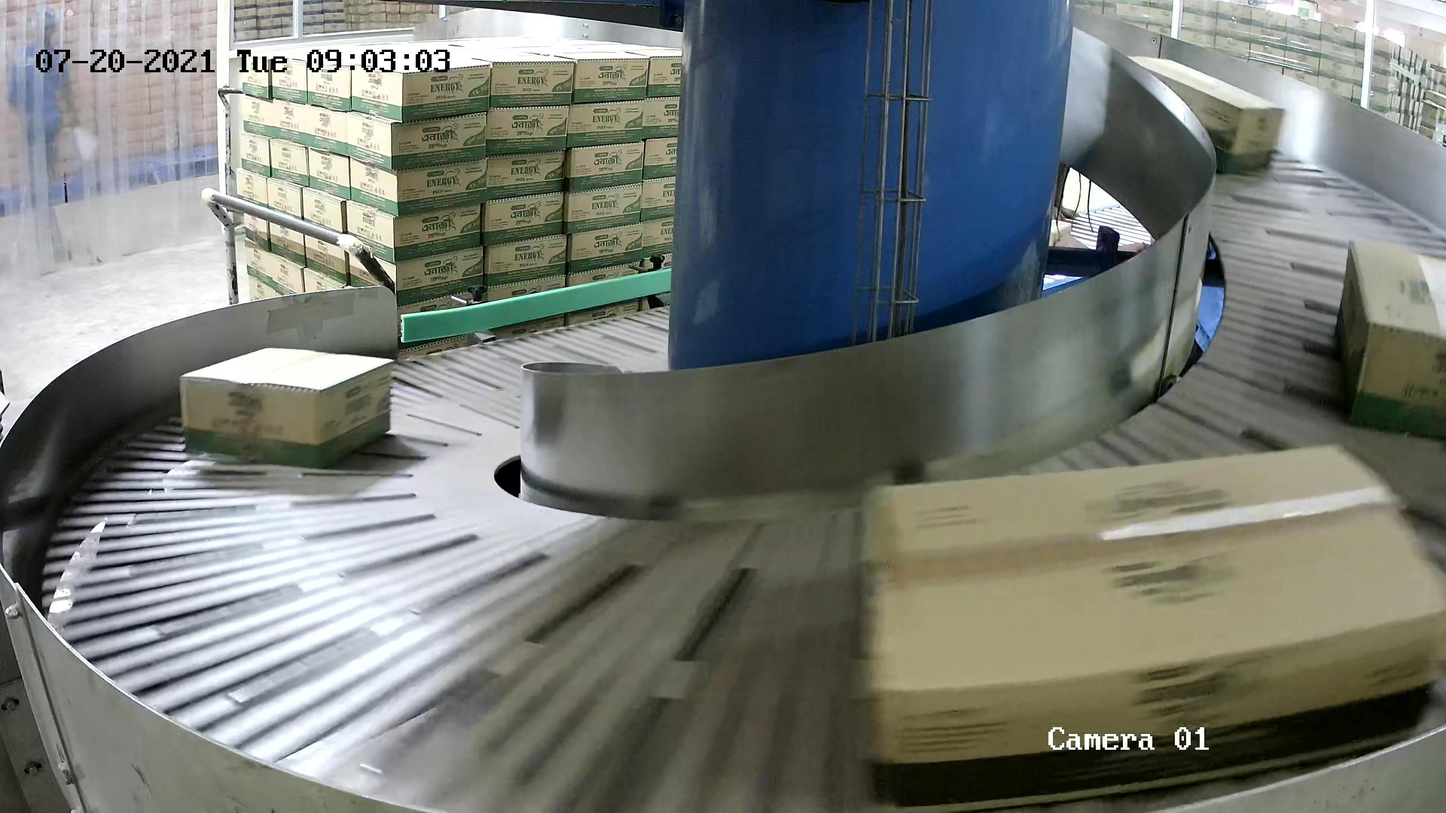Box: (861, 441, 1446, 813), (178, 345, 394, 471), (1332, 238, 1446, 441), (1121, 55, 1290, 176)
